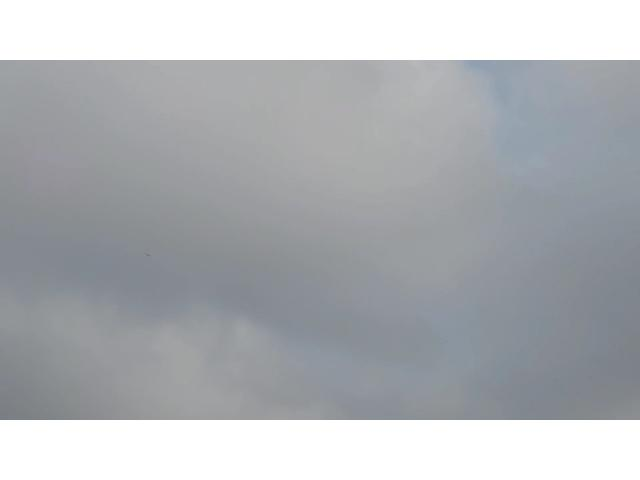Anti-Drone: (144, 253, 152, 257)
